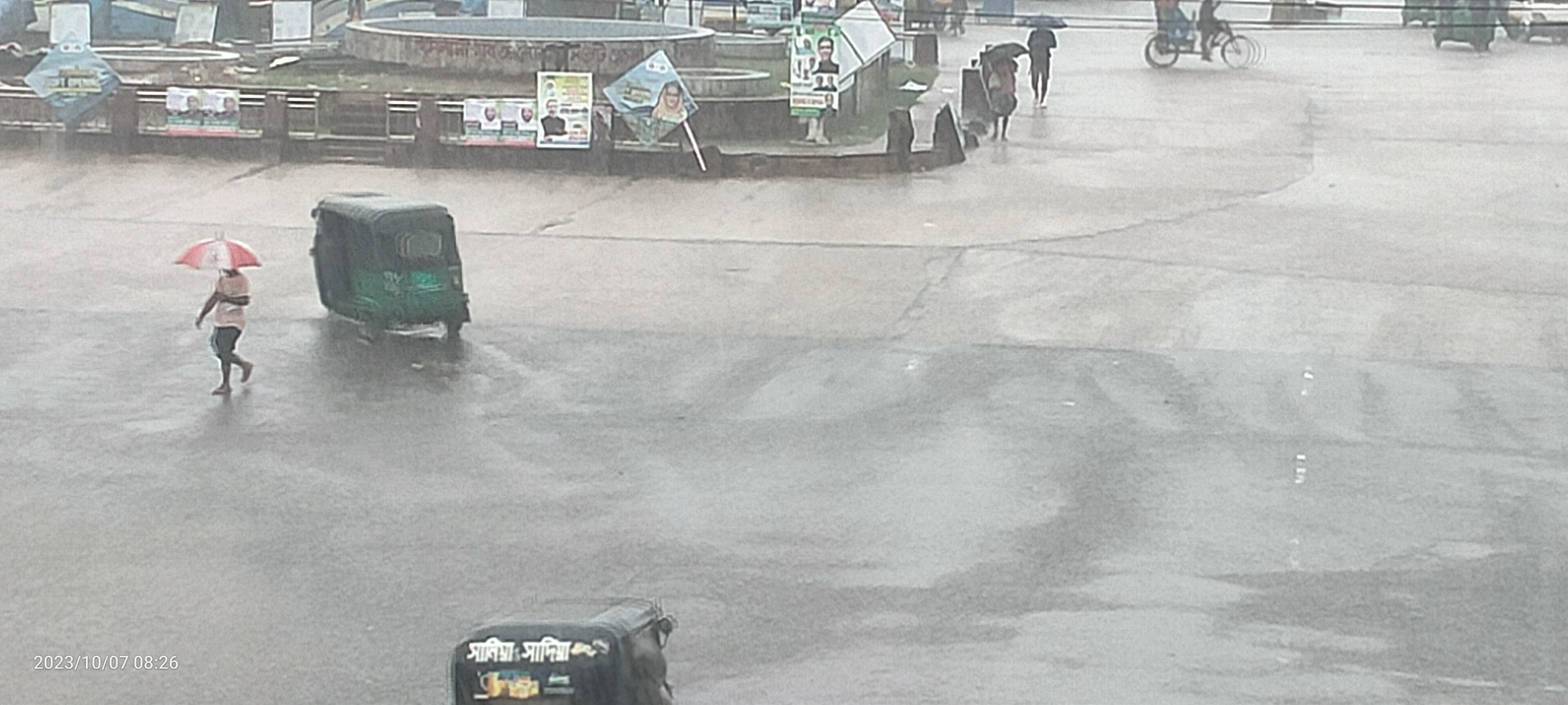Car: (1127, 0, 1262, 118)
